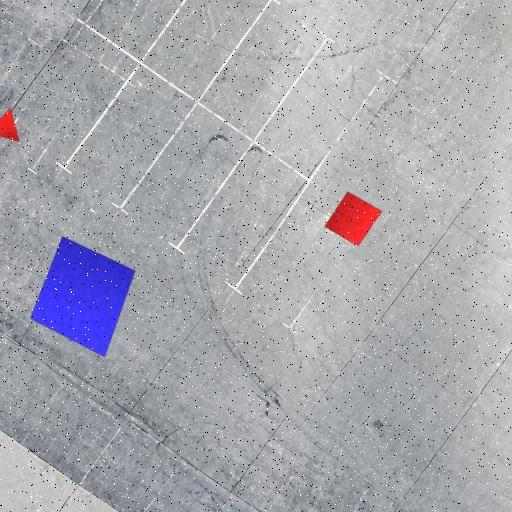BLUE_SQUARE: (30, 236, 136, 358)
RED_SQUARE: (324, 191, 383, 247)
